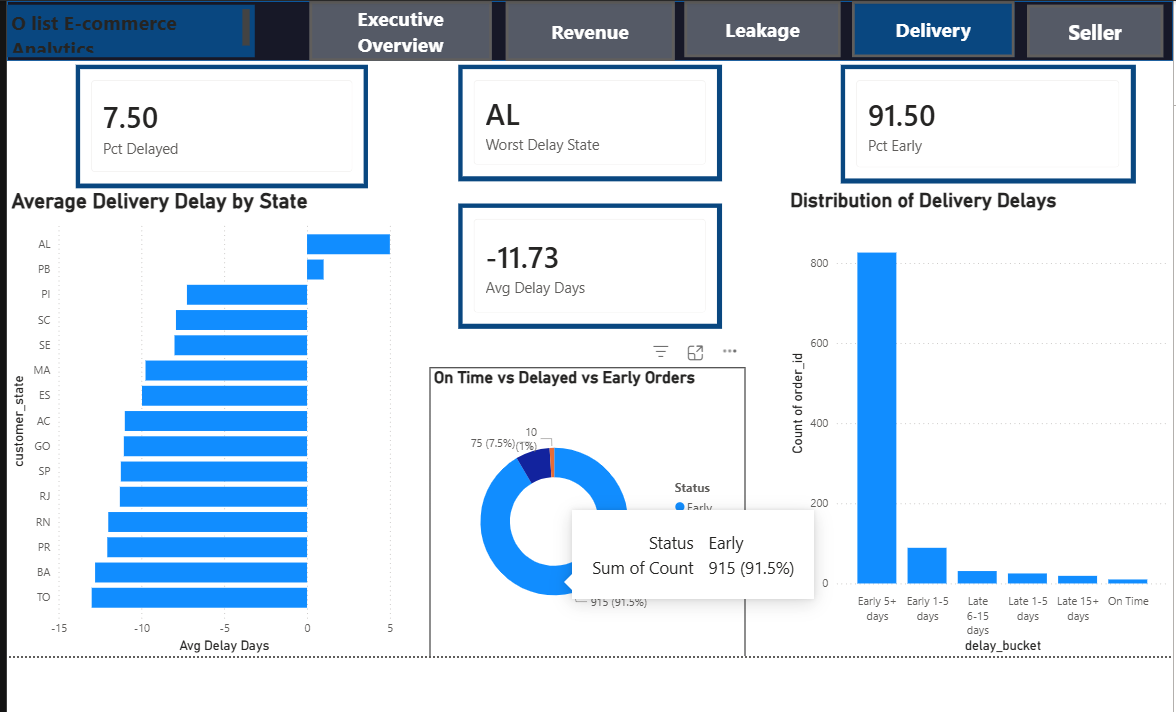

Layout of this report page (visuals, bound fields, positions):
{"tool":"powerbi","page":{"name":"Delivery Performance","canvas":[1280,720],"ordinal":3},"visuals":[{"type":"cardVisual","fields":{"Data":["delivered_orders.Pct Delayed"]},"box":[75.5,70,321.1,135.8],"z":1000},{"type":"cardVisual","fields":{"Data":["delivered_orders.Pct Early"]},"box":[915.3,70,323.8,130.4],"z":2000},{"type":"cardVisual","fields":{"Data":["delivered_orders.Worst Delay State"]},"box":[495.4,70,289.5,127.6],"z":3000},{"type":"cardVisual","fields":{"Data":["delivered_orders.Avg Delay Days"]},"box":[495.4,222.3,289.5,137.2],"z":4000},{"type":"clusteredBarChart","title":"Average Delivery Delay by State","fields":{"Category":["delivered_orders.customer_state"],"Y":["delivered_orders.Avg Delay Days"]},"box":[0,205.8,429.5,514.6],"z":5000},{"type":"donutChart","title":"On Time vs Delayed vs Early Orders","fields":{"Category":["delivery_status_summary.Status"],"Y":["Sum(delivery_status_summary.Count)"]},"box":[463.8,402.1,347.2,318.4],"z":6000},{"type":"clusteredColumnChart","title":"Distribution of Delivery Delays","fields":{"Category":["delivered_orders.delay_bucket"],"Y":["CountNonNull(delivered_orders.order_id)"]},"box":[854.9,205.8,425.4,514.6],"z":7000},{"type":"shape","box":[0,0,1280.3,65.9],"z":7001},{"type":"textbox","box":[0,4.1,271.7,57.6],"z":7002},{"type":"actionButton","box":[332.1,0,200.3,65.9],"z":7003},{"type":"actionButton","box":[547.5,0,185.2,65.9],"z":7004},{"type":"actionButton","box":[743.7,0,171.5,61.7],"z":7005},{"type":"actionButton","box":[927.6,0,178.4,61.7],"z":7006},{"type":"actionButton","box":[1119.7,4.1,149.6,57.6],"z":7007}]}

Visuals, with their boxes on the page's 1280x720 design canvas (x1, y1, x2, y2). These are canvas units, not pixel positions in the 1176x712 screenshot, which may show the page scaled, cropped or inside an application window:
cardVisual - delivered_orders.Pct Delayed: <box>76,70,397,206</box>
cardVisual - delivered_orders.Pct Early: <box>915,70,1239,200</box>
cardVisual - delivered_orders.Worst Delay State: <box>495,70,785,198</box>
cardVisual - delivered_orders.Avg Delay Days: <box>495,222,785,360</box>
"Average Delivery Delay by State" clusteredBarChart: <box>0,206,430,720</box>
"On Time vs Delayed vs Early Orders" donutChart: <box>464,402,811,720</box>
"Distribution of Delivery Delays" clusteredColumnChart: <box>855,206,1280,720</box>
shape: <box>0,0,1280,66</box>
textbox: <box>0,4,272,62</box>
actionButton: <box>332,0,532,66</box>
actionButton: <box>548,0,733,66</box>
actionButton: <box>744,0,915,62</box>
actionButton: <box>928,0,1106,62</box>
actionButton: <box>1120,4,1269,62</box>
